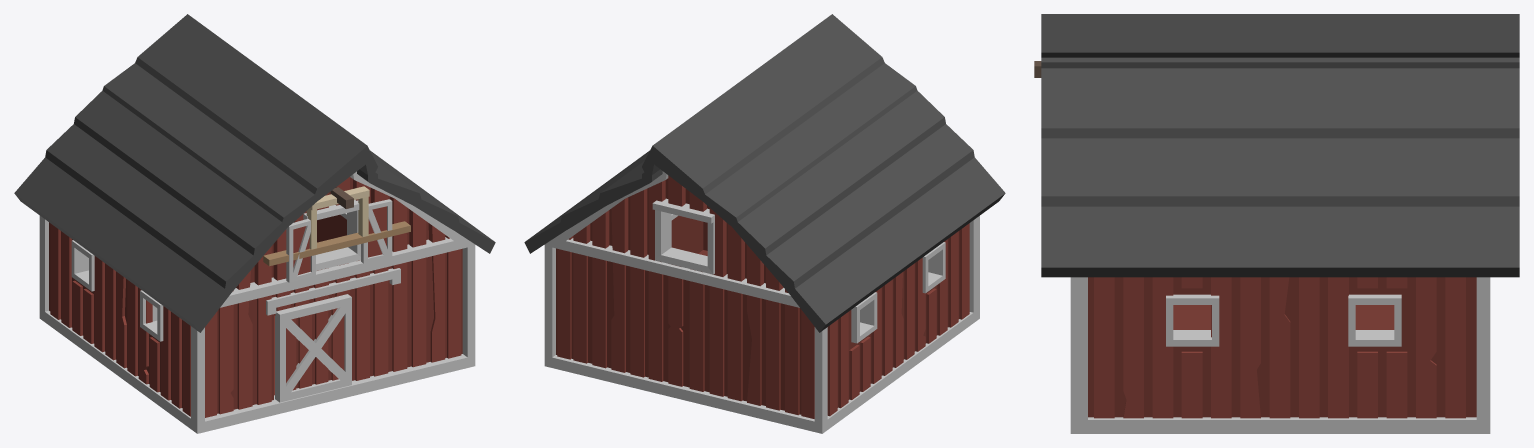
Rendered from small-barn_aTcDP7UERC.glb.
3 views of the same model, side by side, from view 1: azimuth 30°, elevation 25°; view 2: azimuth 150°, elevation 25°; view 3: azimuth 270°, elevation 25° (orthographic). The views are drawn at different scales.
Visible parts, largest first — view 1: Small_Barn_Cube.013, Small_Barn_Door_Cube.008, Hayloft_hood_and_hoist, SmallBarn_Window_Cube.023, SmallBarn_Window2_Cube.022; view 2: Small_Barn_Cube.013; view 3: Small_Barn_Cube.013.
Part boxes in pixels (x1,y1,x2,y2): Small_Barn_Cube.013: (14,14,495,433); Small_Barn_Door_Cube.008: (275,294,351,402); Hayloft_hood_and_hoist: (263,186,410,266); SmallBarn_Window_Cube.023: (361,199,392,263); SmallBarn_Window2_Cube.022: (286,219,315,282); Small_Barn_Cube.013: (524,14,1005,433); Small_Barn_Cube.013: (1041,14,1519,433).
Size of the model in its own units: 6.08 by 4.96 by 6.36.
